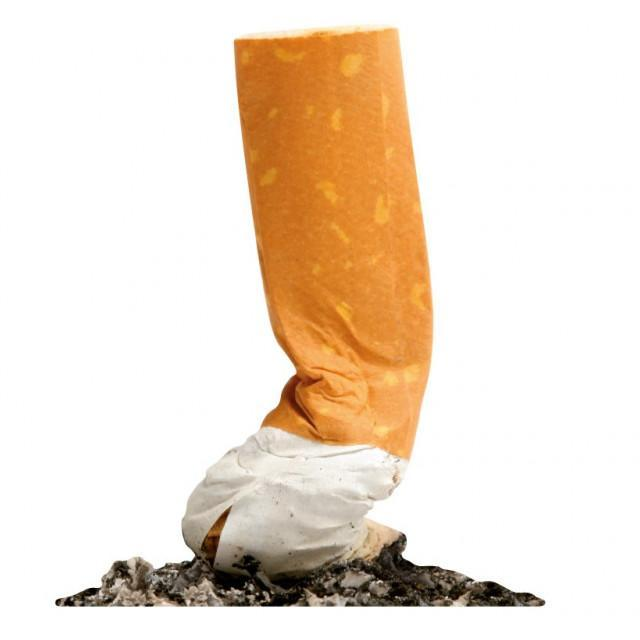Cigarette Butt: (180, 21, 436, 585)
